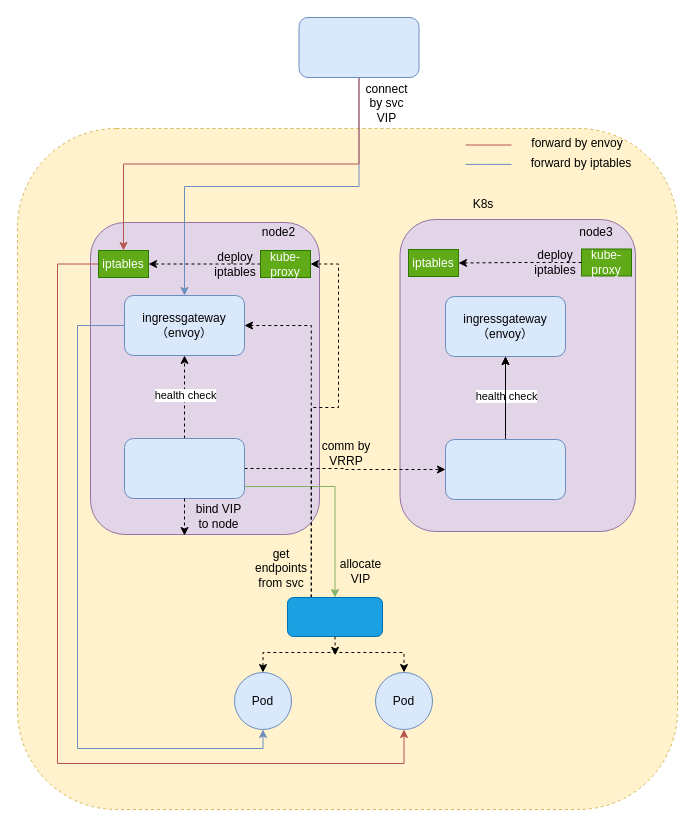
Image size: 695x827. Some labels were removed from this diagram. The centre of each missing label's shape, as x and y in pixels:
"Client" goes at point 358,47.
"keepalived （backup）" goes at point 505,469.
"keepalived （master）" goes at point 184,468.
"service (LoadBalancer)" goes at point 334,616.
